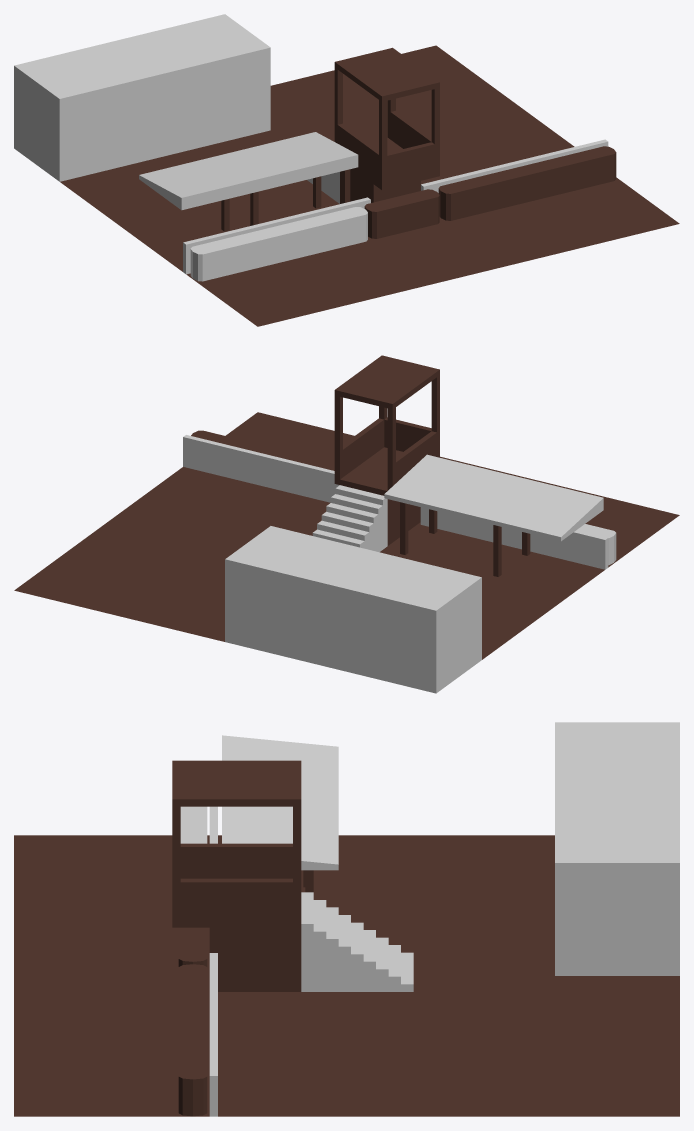
The model's file is car_meet.glb.
The picture shows the model from 3 angles, top to bottom: view 1: azimuth 30°, elevation 25°; view 2: azimuth 150°, elevation 25°; view 3: azimuth 270°, elevation 25°; orthographic projection. The views are drawn at different scales.
Parts seen in each view (by area): view 1: VISUAL_ground, VISUAL_house, VISUAL_post, VISUAL_roof, VISUAL_barrier.002, VISUAL_barrier.001, VISUAL_barrier.003, VISUAL_wall, VISUAL_wall.001; view 2: VISUAL_ground, VISUAL_house, VISUAL_post, VISUAL_roof, VISUAL_wall.001, VISUAL_wall, VISUAL_barrier.002, VISUAL_stars, COL_stars, VISUAL_stars.001, VISUAL_barrier.001, VISUAL_stars.002 (+2 smaller); view 3: VISUAL_ground, VISUAL_house, VISUAL_post, VISUAL_roof, VISUAL_barrier.002, VISUAL_wall.001, VISUAL_stars, VISUAL_stars.001, COL_stars, VISUAL_barrier.003, VISUAL_stars.002, VISUAL_barrier.001 (+4 smaller).
Boxes of the visible parts, <box> form: VISUAL_ground: <box>60,45,679,326</box>; VISUAL_house: <box>14,14,270,181</box>; VISUAL_post: <box>334,47,439,203</box>; VISUAL_roof: <box>139,132,358,210</box>; VISUAL_barrier.002: <box>438,146,616,220</box>; VISUAL_barrier.001: <box>190,207,367,281</box>; VISUAL_barrier.003: <box>364,189,439,238</box>; VISUAL_wall: <box>183,197,370,274</box>; VISUAL_wall.001: <box>421,139,608,192</box>; VISUAL_ground: <box>14,412,679,659</box>; VISUAL_house: <box>225,526,481,693</box>; VISUAL_post: <box>334,355,439,545</box>; VISUAL_roof: <box>384,454,603,541</box>; VISUAL_wall.001: <box>183,435,339,502</box>; VISUAL_wall: <box>420,507,608,569</box>; VISUAL_barrier.002: <box>191,430,334,470</box>; VISUAL_stars: <box>335,485,387,549</box>; COL_stars: <box>361,499,387,552</box>; VISUAL_stars.001: <box>331,494,382,549</box>; VISUAL_barrier.001: <box>577,524,616,565</box>; VISUAL_stars.002: <box>326,503,378,523</box>; VISUAL_ground: <box>14,835,679,1116</box>; VISUAL_house: <box>555,722,679,975</box>; VISUAL_post: <box>172,760,301,991</box>; VISUAL_roof: <box>222,735,338,870</box>; VISUAL_barrier.002: <box>178,964,207,1116</box>; VISUAL_wall.001: <box>209,953,217,1116</box>; VISUAL_stars: <box>301,892,313,991</box>; VISUAL_stars.001: <box>313,900,326,991</box>; COL_stars: <box>301,924,411,991</box>; VISUAL_barrier.003: <box>178,927,207,966</box>; VISUAL_stars.002: <box>326,907,338,991</box>; VISUAL_barrier.001: <box>180,806,207,843</box>.
Bounding box in the file's own units: 16 × 5.2 × 16.
